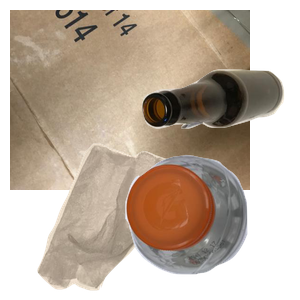cardboard: (10, 10, 250, 190)
glass: (140, 67, 300, 188)
plastic: (123, 152, 300, 300)
trash: (35, 140, 203, 300)
